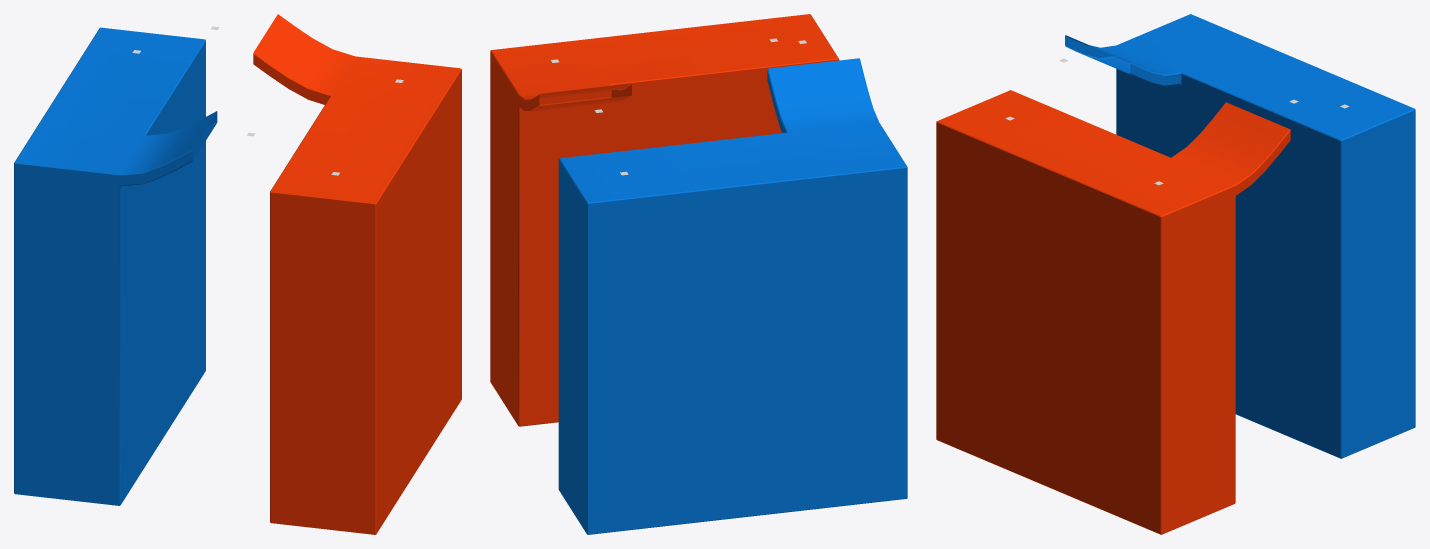
Rendered from level-04.glb.
The picture shows the model from 3 angles, left to right: view 1: azimuth 30°, elevation 25°; view 2: azimuth 150°, elevation 25°; view 3: azimuth 270°, elevation 25°; orthographic projection. The views are drawn at different scales.
Parts seen in each view (by area): view 1: Cube.001, Cube.002; view 2: Cube.002, Cube.001; view 3: Cube.001, Cube.002.
Boxes of the visible parts, bbox=[...] form: Cube.001: bbox=[253, 14, 461, 534]; Cube.002: bbox=[14, 27, 217, 505]; Cube.002: bbox=[558, 58, 907, 534]; Cube.001: bbox=[490, 14, 839, 426]; Cube.001: bbox=[936, 90, 1290, 534]; Cube.002: bbox=[1065, 14, 1415, 458].
Size of what is drawn, in the model's own units: 137 by 111 by 137.
